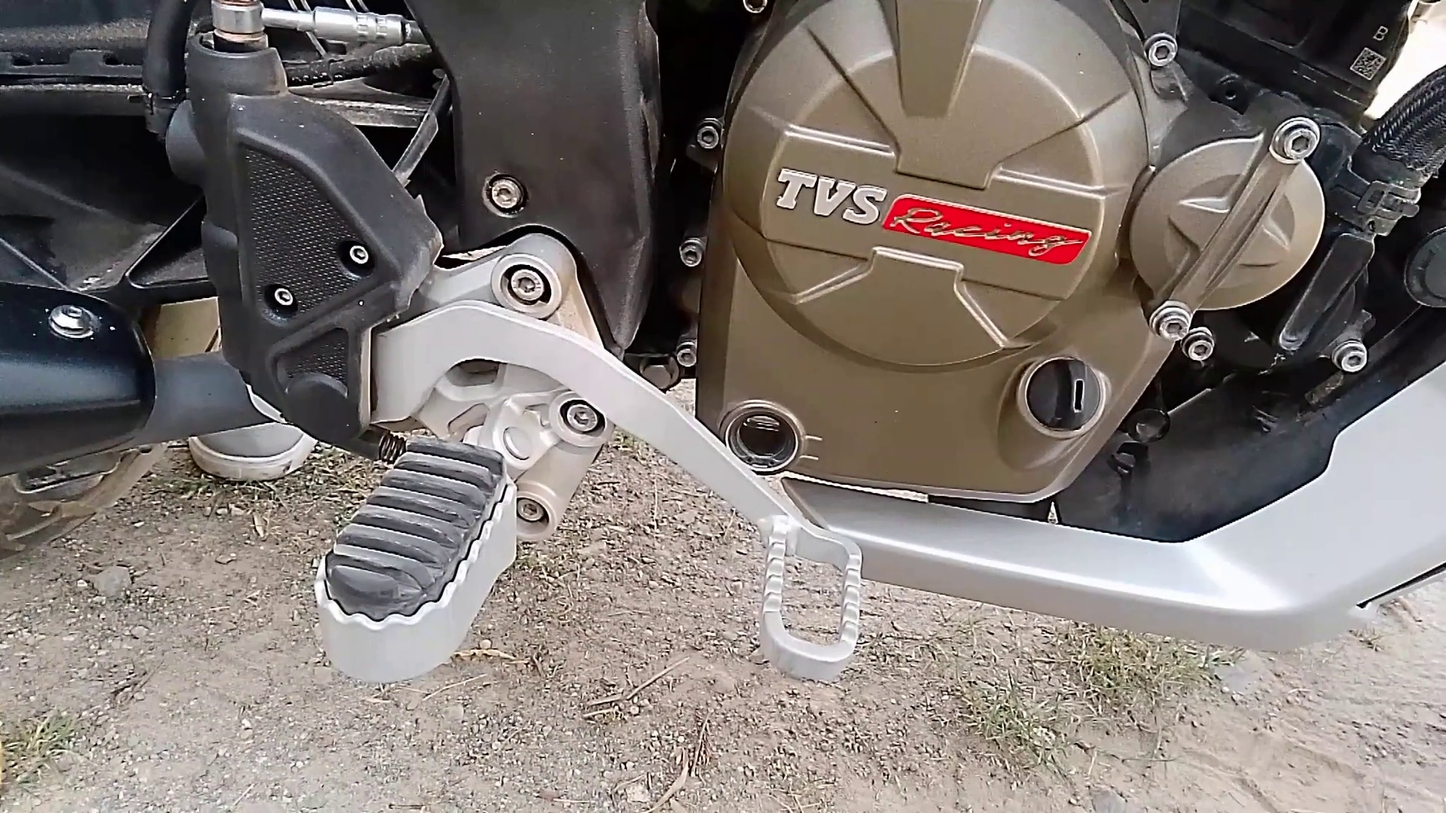engine: (661, 0, 1341, 510)
oil_cap: (1015, 348, 1115, 444)
oil_marker: (715, 384, 834, 482)
